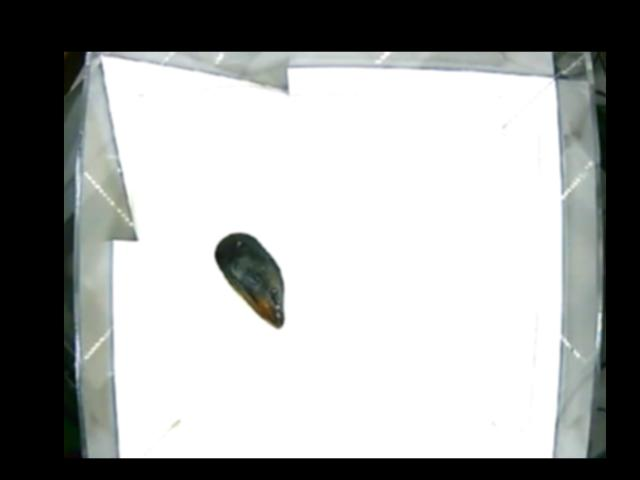Shell: (214, 232, 286, 328)
